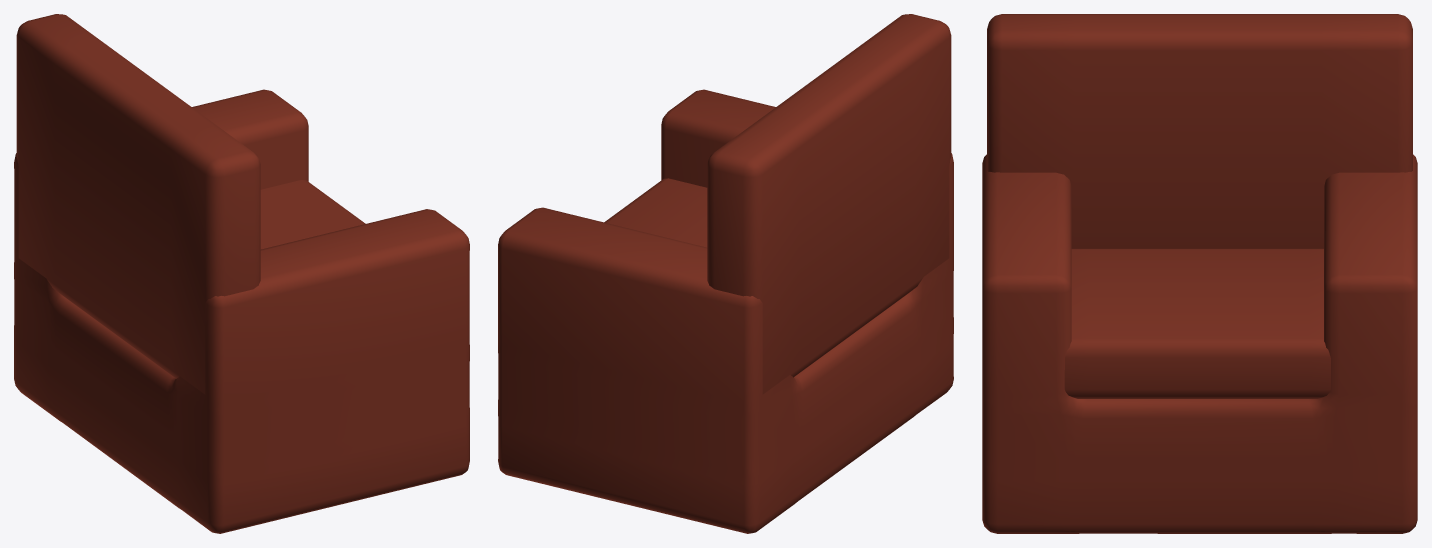
Rendered from Chair2.fbx.
3 views of the same model, side by side, from view 1: azimuth 30°, elevation 25°; view 2: azimuth 150°, elevation 25°; view 3: azimuth 270°, elevation 25° (orthographic). The views are drawn at different scales.
Parts seen in each view (by area): view 1: Cube.002, Cube.003, Cube.004; view 2: Cube.002, Cube.003, Cube.004; view 3: Cube.002, Cube.003, Cube.004.
Boxes of the visible parts, <box> form: Cube.002: <box>14,89,469,533</box>; Cube.003: <box>16,14,260,394</box>; Cube.004: <box>260,180,365,249</box>; Cube.002: <box>498,89,953,533</box>; Cube.003: <box>707,14,951,394</box>; Cube.004: <box>604,178,707,247</box>; Cube.002: <box>982,154,1417,533</box>; Cube.003: <box>987,14,1412,248</box>; Cube.004: <box>1064,248,1330,398</box>.
Size of the model in its own units: 217 by 296 by 296.
